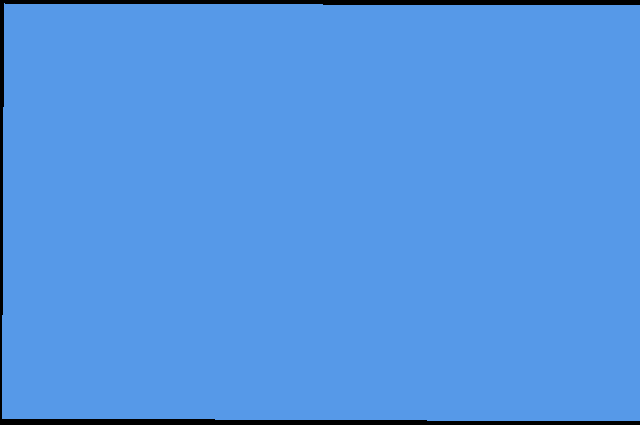Airplane: (2, 3, 640, 422)
